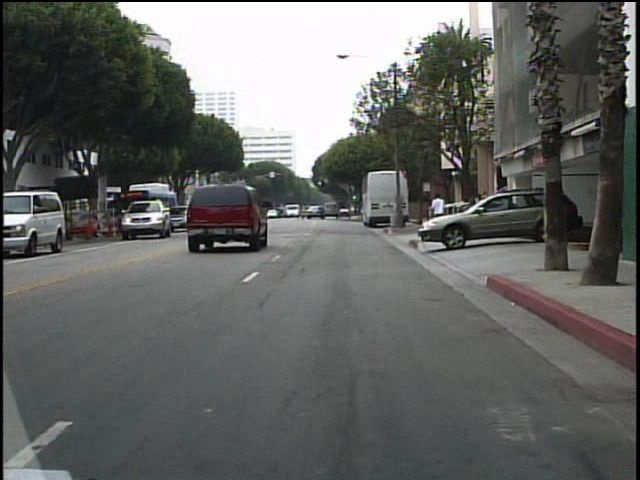person: (426, 191, 449, 238)
